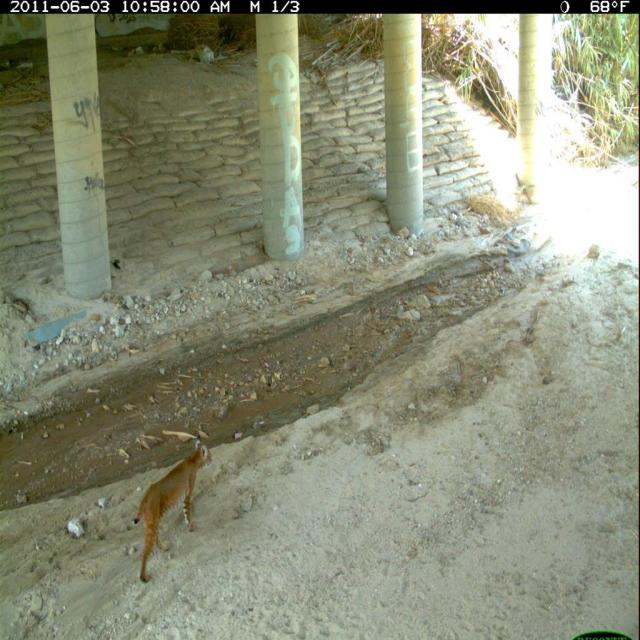bobcat: (132, 432, 216, 589)
